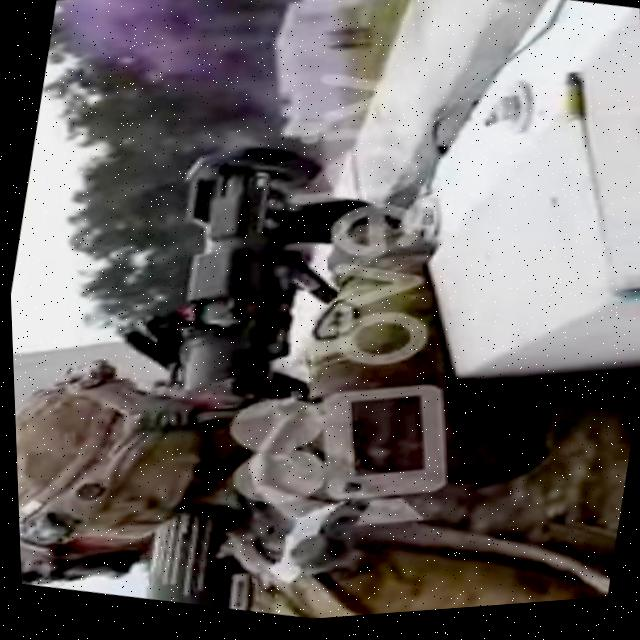rocket: (23, 106, 427, 639)
